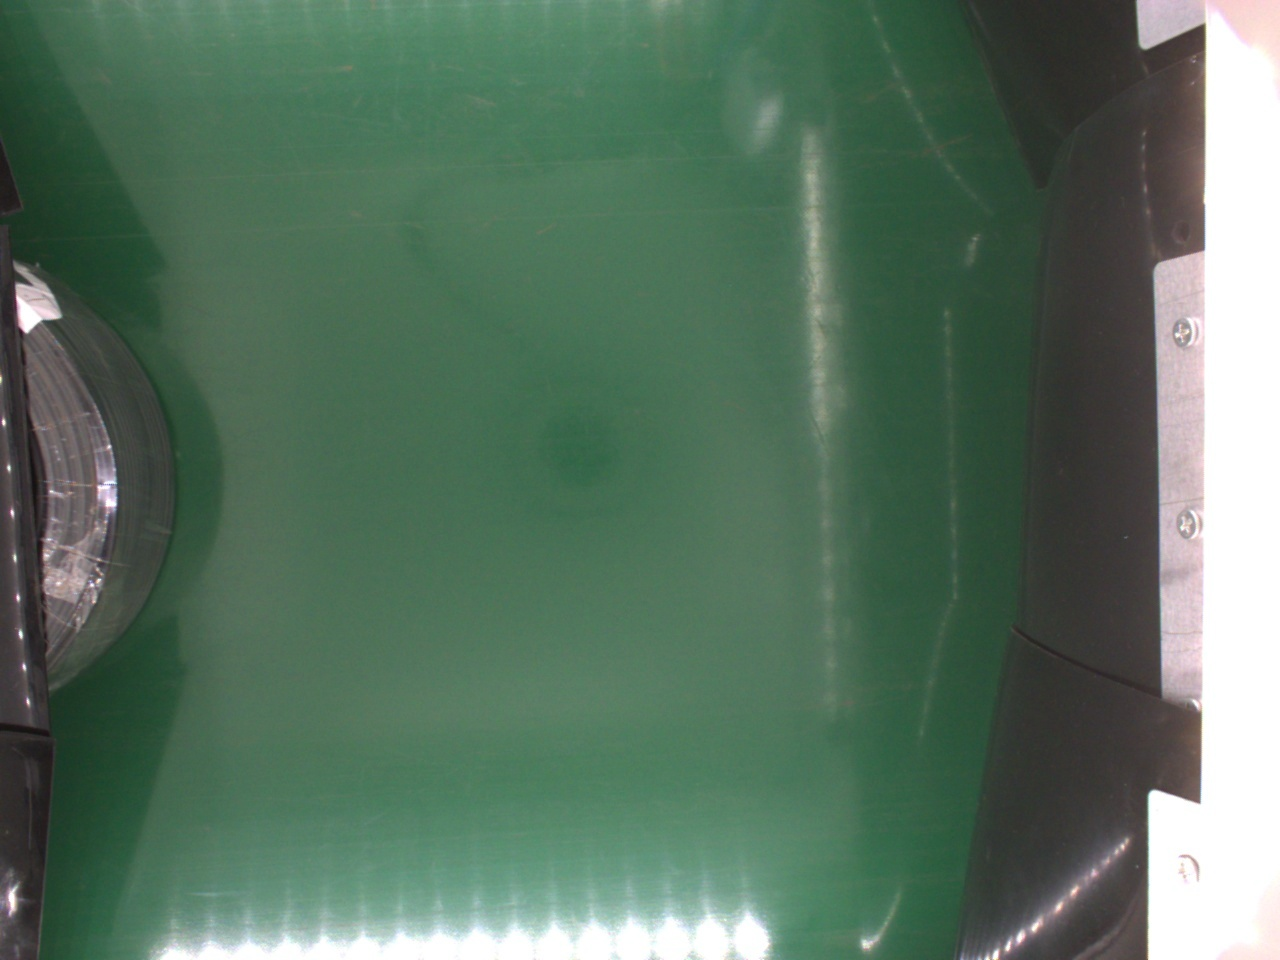black: (16, 259, 178, 689)
